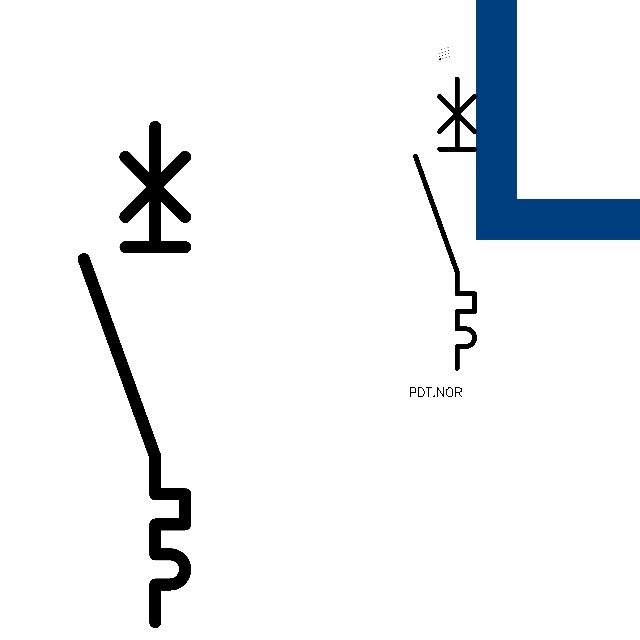interruptor_termomagnetico: (71, 114, 198, 635), (408, 71, 482, 375)
